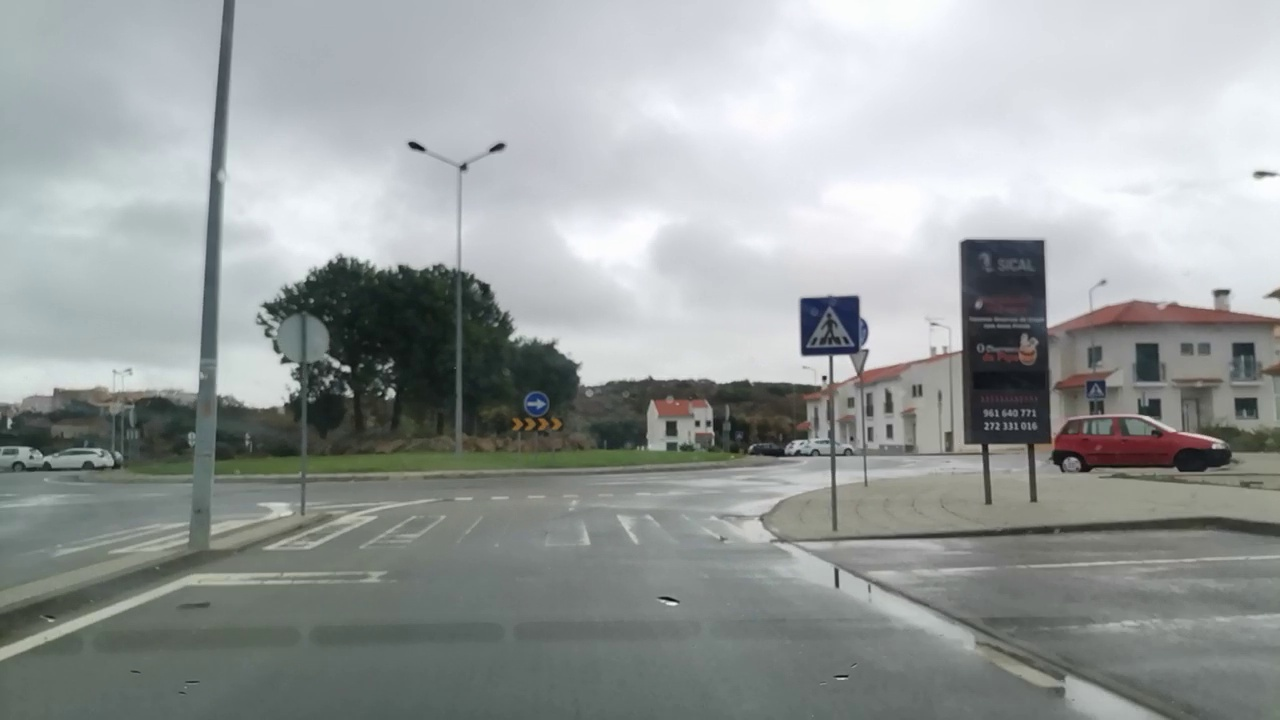Stairs: (271, 510, 768, 552)
